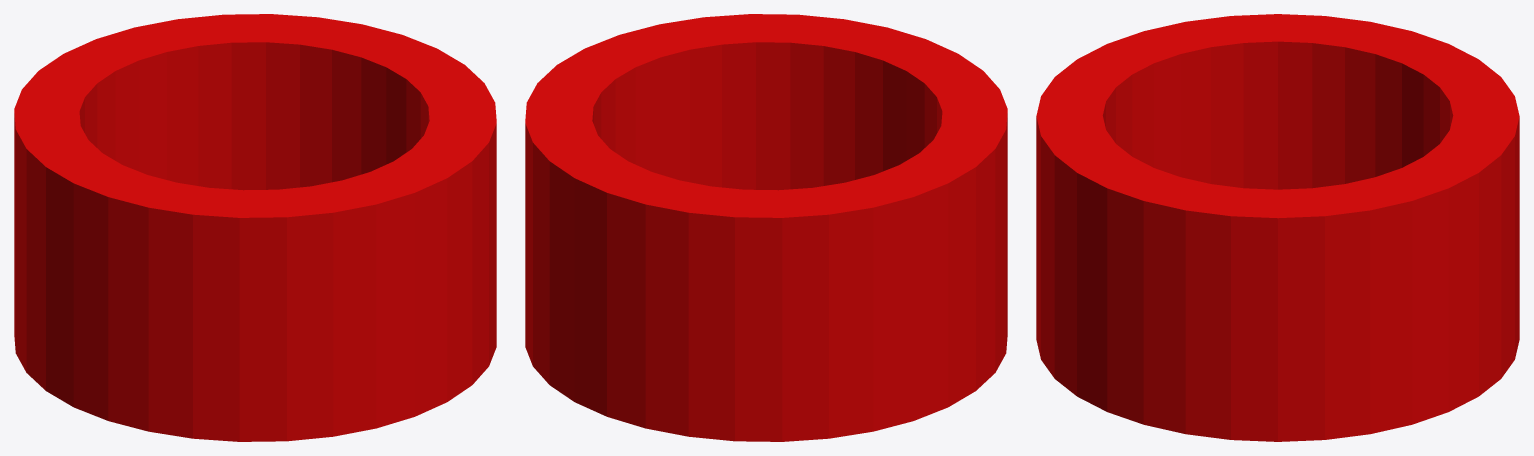
File: RedPro.fbx
3 views of the same model, side by side, from view 1: azimuth 30°, elevation 25°; view 2: azimuth 150°, elevation 25°; view 3: azimuth 270°, elevation 25° (orthographic).
Visible parts, largest first — view 1: Cylinder; view 2: Cylinder; view 3: Cylinder.
Boxes of the visible parts, box(x1,y1,x2,y2) form: Cylinder: box(14, 14, 496, 441); Cylinder: box(525, 14, 1007, 441); Cylinder: box(1036, 14, 1519, 441).
Bounding box in the file's own units: 200 × 102 × 200.
